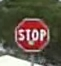stop: (12, 16, 50, 50)
